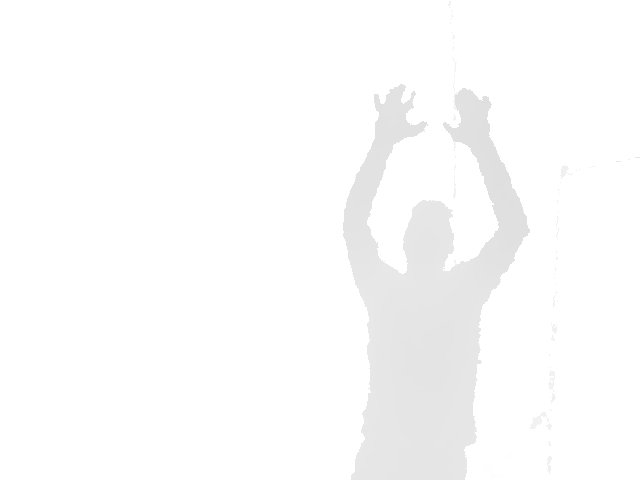hand: (371, 83, 429, 145), (442, 87, 496, 145)
head: (404, 198, 455, 274)
person: (342, 83, 531, 480)
